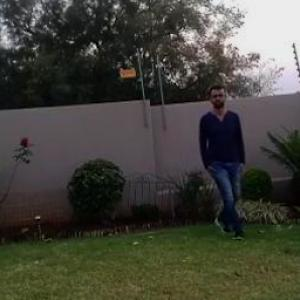follow: (206, 80, 251, 240)
